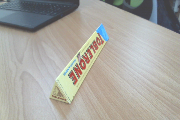Chocolate: (47, 18, 117, 111)
